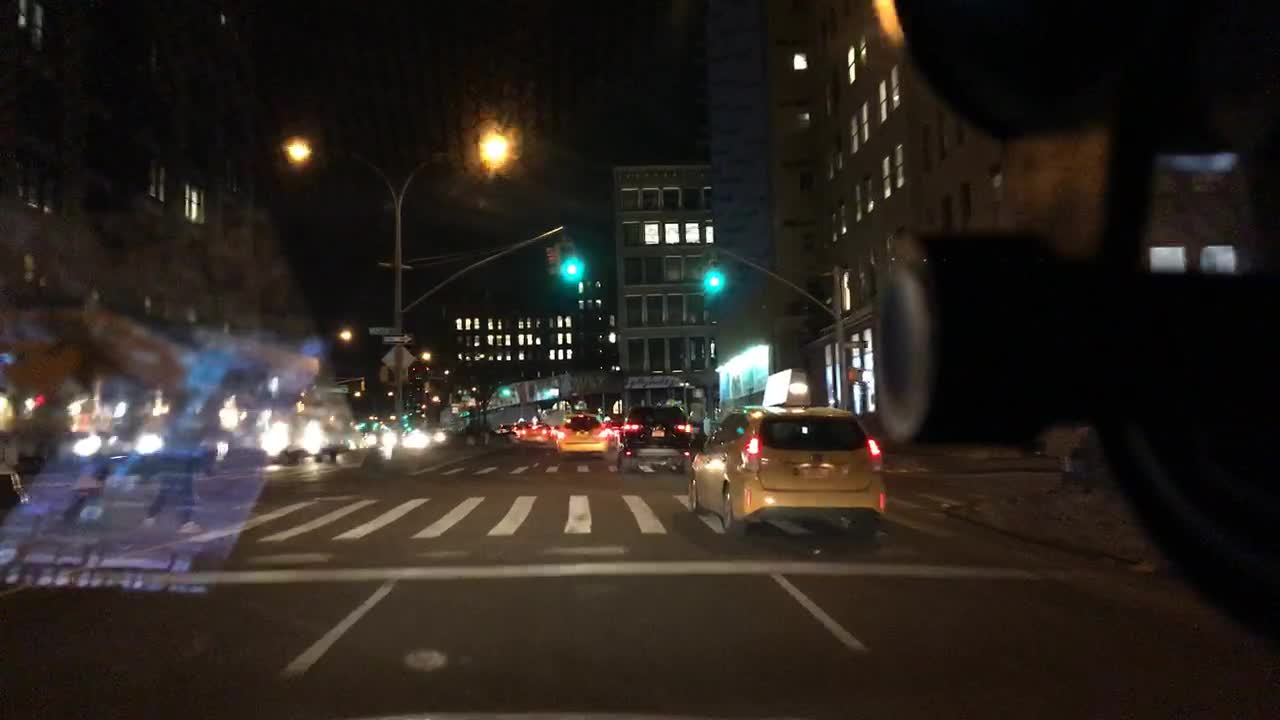car: (686, 406, 886, 539), (258, 385, 358, 456), (616, 404, 692, 471), (556, 410, 617, 461), (509, 420, 554, 451), (402, 428, 448, 449), (360, 428, 396, 446), (493, 422, 505, 436)
person: (140, 383, 209, 536)
traffic light: (559, 242, 579, 285), (546, 242, 559, 282), (709, 260, 721, 291)
traffic sign: (383, 345, 417, 373), (380, 365, 409, 385), (383, 333, 415, 343)
